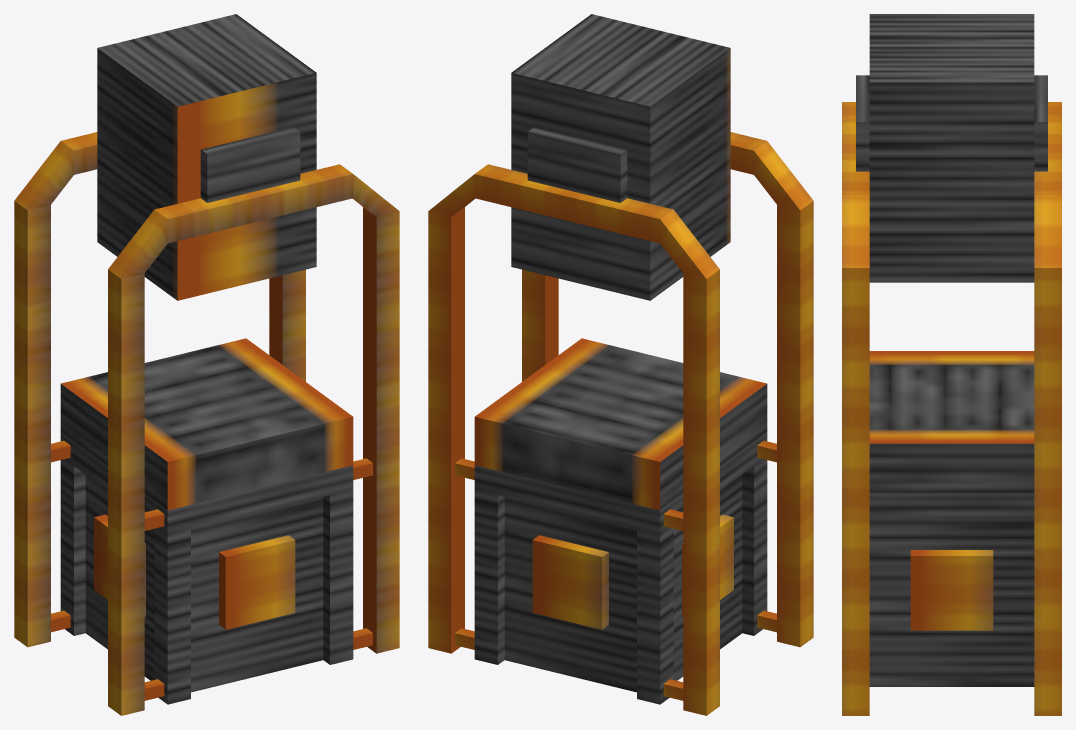
The model's file is conveyor_press.obj.
3 renders of one model, left to right at view 1: azimuth 30°, elevation 25°; view 2: azimuth 150°, elevation 25°; view 3: azimuth 270°, elevation 25°, orthographic. The views are drawn at different scales.
Visible parts, largest first — view 1: Press, Belt; view 2: Press, Belt; view 3: Press, Belt.
Part boxes in pixels (x1,y1,x2,y2): Press: (14, 14, 399, 715); Belt: (61, 338, 353, 510); Press: (428, 14, 813, 715); Belt: (474, 338, 766, 510); Press: (842, 14, 1061, 715); Belt: (869, 351, 1034, 443).
Size of the model in its own units: 1.5 by 3 by 1.
